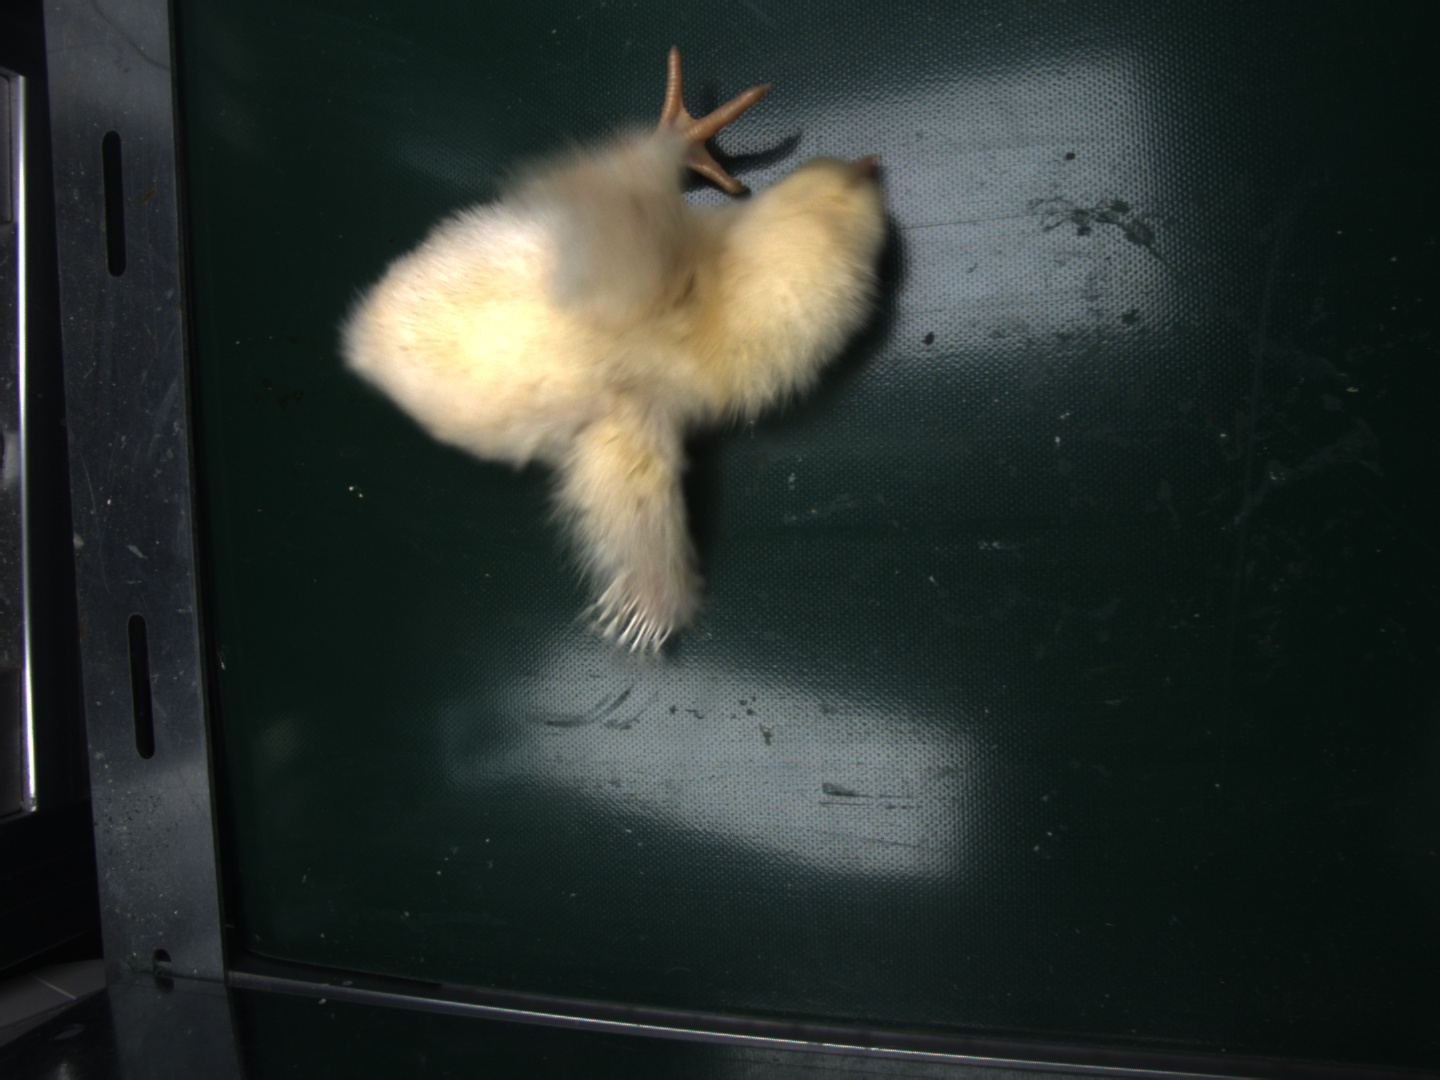male: (596, 579, 677, 648)
